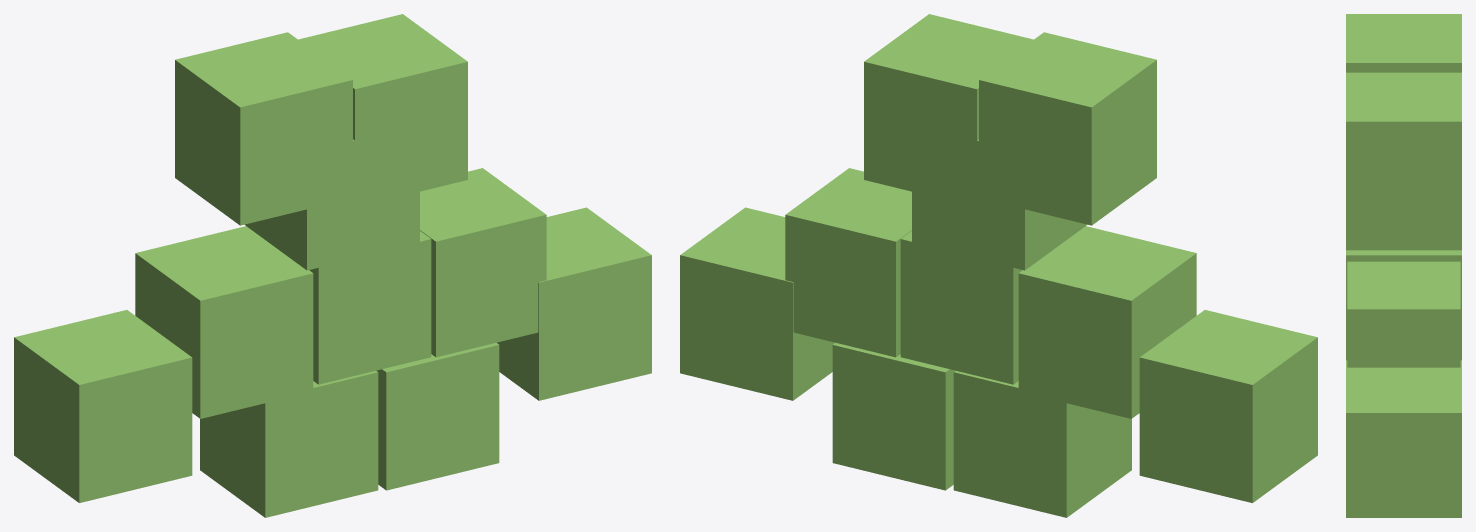
Rendered from invader1.fbx.
3 views of the same model, side by side, from view 1: azimuth 30°, elevation 25°; view 2: azimuth 150°, elevation 25°; view 3: azimuth 270°, elevation 25° (orthographic). The views are drawn at different scales.
Visible parts, largest first — view 1: Cube.006, Cube.008, Cube, Cube.009, Cube.007, Cube.004, Cube.002, Cube.005, Cube.001, Cube.003; view 2: Cube.006, Cube.008, Cube, Cube.009, Cube.007, Cube.004, Cube.002, Cube.005, Cube.001, Cube.003; view 3: Cube.009, Cube.007, Cube.002, Cube.008, Cube.003, Cube.001.
Part boxes in pixels (x1,y1,x2,y2): Cube.006: (14,310,192,502); Cube.008: (175,32,352,225); Cube: (135,226,313,418); Cube.009: (298,14,467,207); Cube.007: (497,207,651,400); Cube.004: (200,371,378,517); Cube.002: (420,168,546,357); Cube.005: (376,342,499,490); Cube.001: (309,231,431,384); Cube.003: (245,125,419,270); Cube.006: (1139,310,1317,502); Cube.008: (979,32,1156,225); Cube: (1018,226,1196,418); Cube.009: (864,14,1033,207); Cube.007: (680,207,834,400); Cube.004: (953,371,1131,517); Cube.002: (785,168,911,357); Cube.005: (832,342,955,490); Cube.001: (900,231,1022,384); Cube.003: (912,139,1086,270); Cube.009: (1346,72,1461,226); Cube.007: (1346,364,1461,517); Cube.002: (1347,261,1460,367); Cube.008: (1346,14,1461,72); Cube.003: (1346,226,1461,250); Cube.001: (1346,250,1461,360).
Bounding box in the file's own units: 2.7 × 1.89 × 0.5336.
